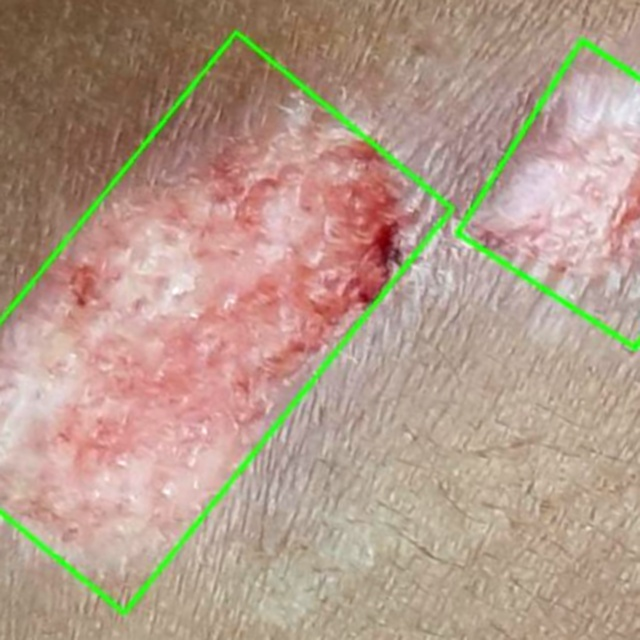Eczema: (0, 31, 452, 611), (455, 40, 639, 348)
